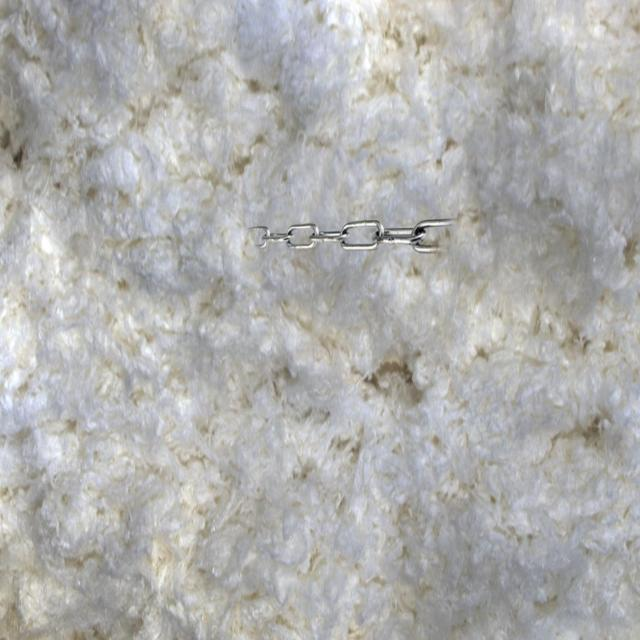dust: (231, 152, 474, 363)
